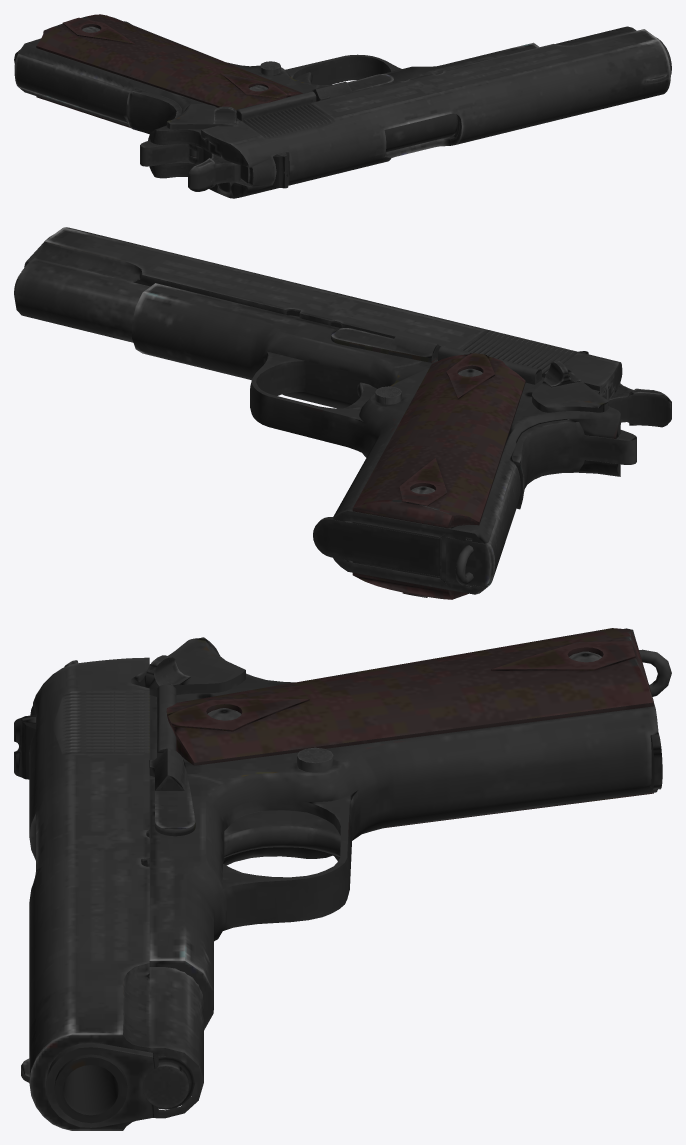
The model's file is Colt 1911_1.glb.
The picture shows the model from 3 angles, top to bottom: view 1: azimuth 30°, elevation 25°; view 2: azimuth 150°, elevation 25°; view 3: azimuth 270°, elevation 25°; orthographic projection. The views are drawn at different scales.
Visible parts, largest first — view 1: 1911_Slide, 1911_Body; view 2: 1911_Body, 1911_Slide, 1911_Mag; view 3: 1911_Body, 1911_Slide.
Part boxes in pixels (bbox=[...]): 1911_Slide: bbox=[201, 26, 671, 198]; 1911_Body: bbox=[14, 14, 671, 193]; 1911_Body: bbox=[14, 273, 671, 599]; 1911_Slide: bbox=[14, 227, 622, 424]; 1911_Mag: bbox=[313, 517, 441, 577]; 1911_Body: bbox=[54, 628, 671, 1123]; 1911_Slide: bbox=[14, 657, 203, 1130].
Size of the model in its own units: 0.1934 by 0.0284 by 0.1252.
1 material, 1 textured.
